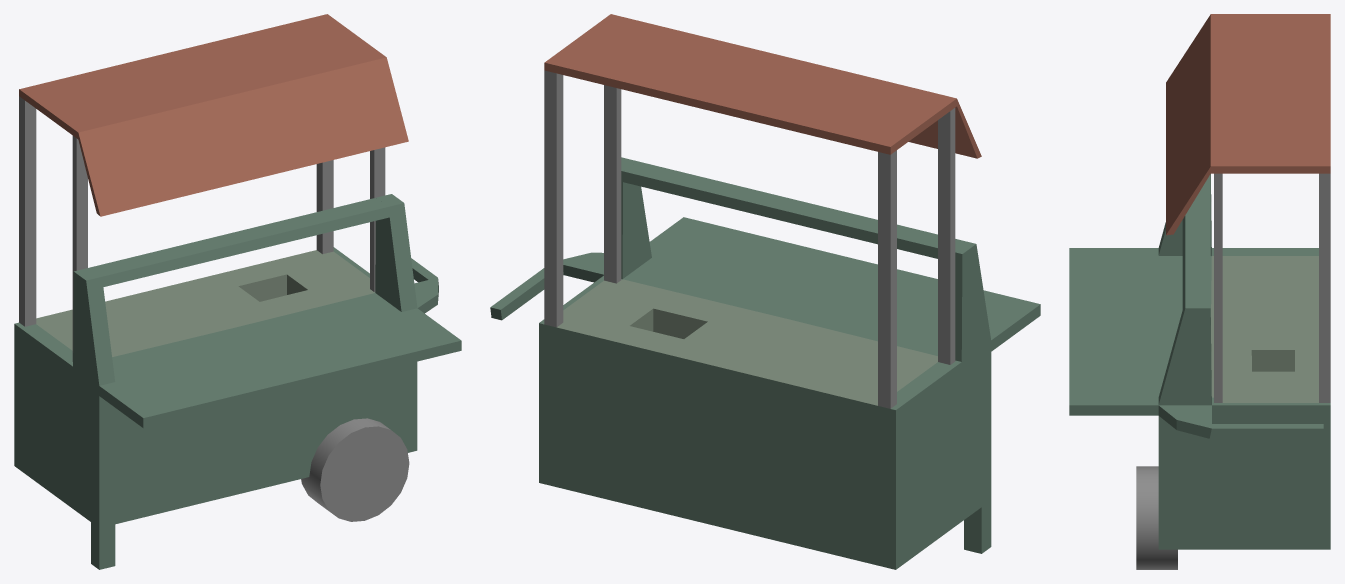
The model's file is Carrito.fbx.
3 renders of one model, left to right at view 1: azimuth 30°, elevation 25°; view 2: azimuth 150°, elevation 25°; view 3: azimuth 270°, elevation 25°, orthographic. The views are drawn at different scales.
Visible parts, largest first — view 1: polySurface2, polySurface1; view 2: polySurface2; view 3: polySurface2, polySurface1.
Part boxes in pixels (x1,y1,x2,y2): polySurface2: [14, 14, 461, 569]; polySurface1: [301, 418, 409, 521]; polySurface2: [490, 14, 1040, 569]; polySurface2: [1069, 14, 1330, 549]; polySurface1: [1136, 466, 1177, 569].
Bounding box in the file's own units: 4.38 × 4.84 × 2.68.
